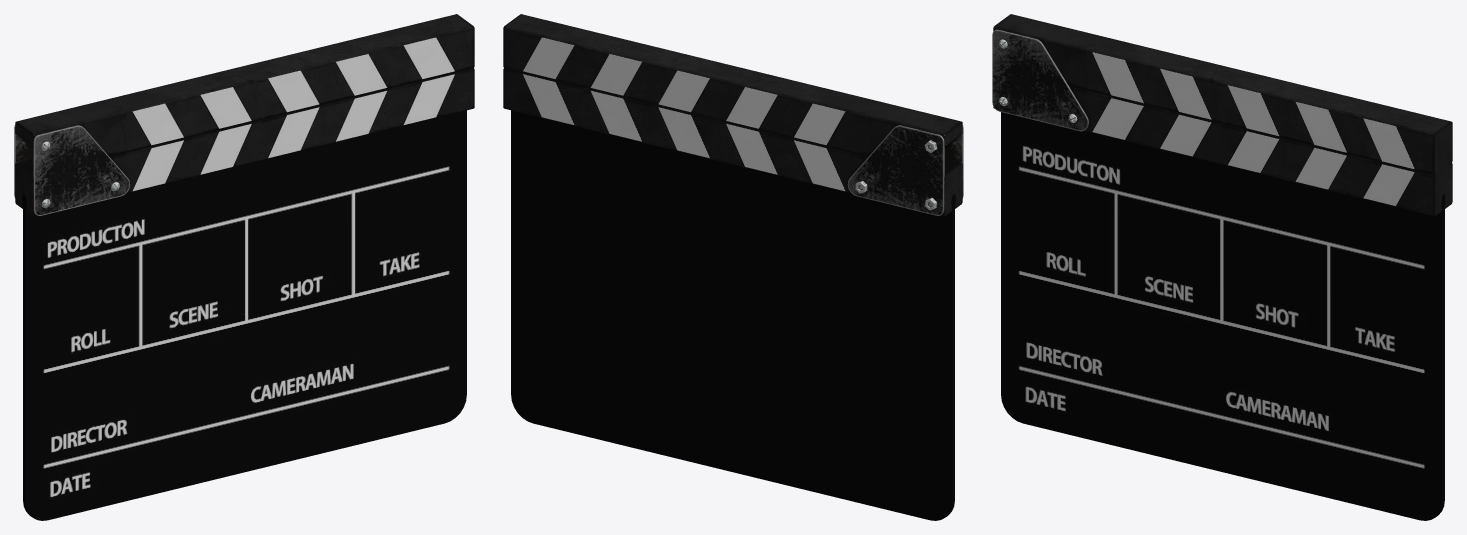
File: claqueta.glb
The picture shows the model from 3 angles, left to right: view 1: azimuth 30°, elevation 25°; view 2: azimuth 150°, elevation 25°; view 3: azimuth 330°, elevation 25°; orthographic projection.
Parts seen in each view (by area): view 1: defaultMaterial; view 2: defaultMaterial; view 3: defaultMaterial.
Boxes of the visible parts, box(x1,y1,x2,y2) form: defaultMaterial: box(14, 14, 474, 520); defaultMaterial: box(503, 14, 963, 520); defaultMaterial: box(992, 14, 1452, 520).
Size of the model in its own units: 28 by 24.08 by 2.66.
Materials: 1 (1 with a texture image).
